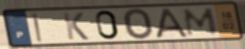0: (94, 9, 122, 41)
A: (155, 7, 190, 40)
I: (31, 12, 44, 43)
K: (61, 12, 91, 41)
M: (183, 7, 220, 37)
O: (122, 7, 156, 41)
